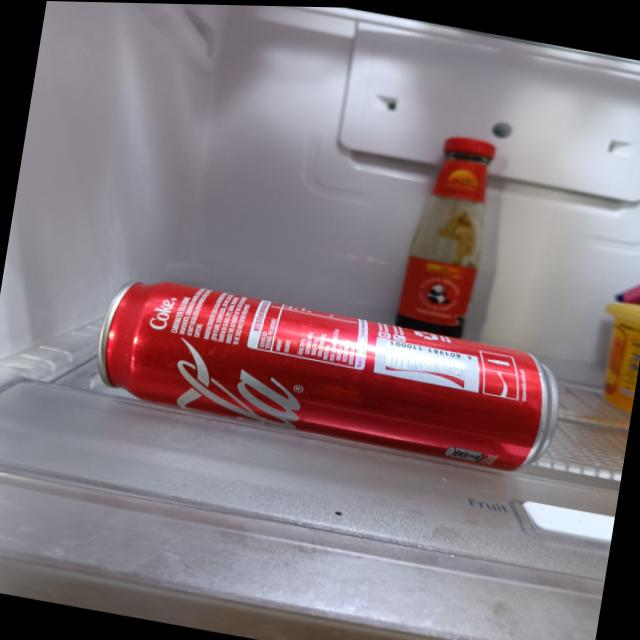coke: (93, 271, 567, 475)
